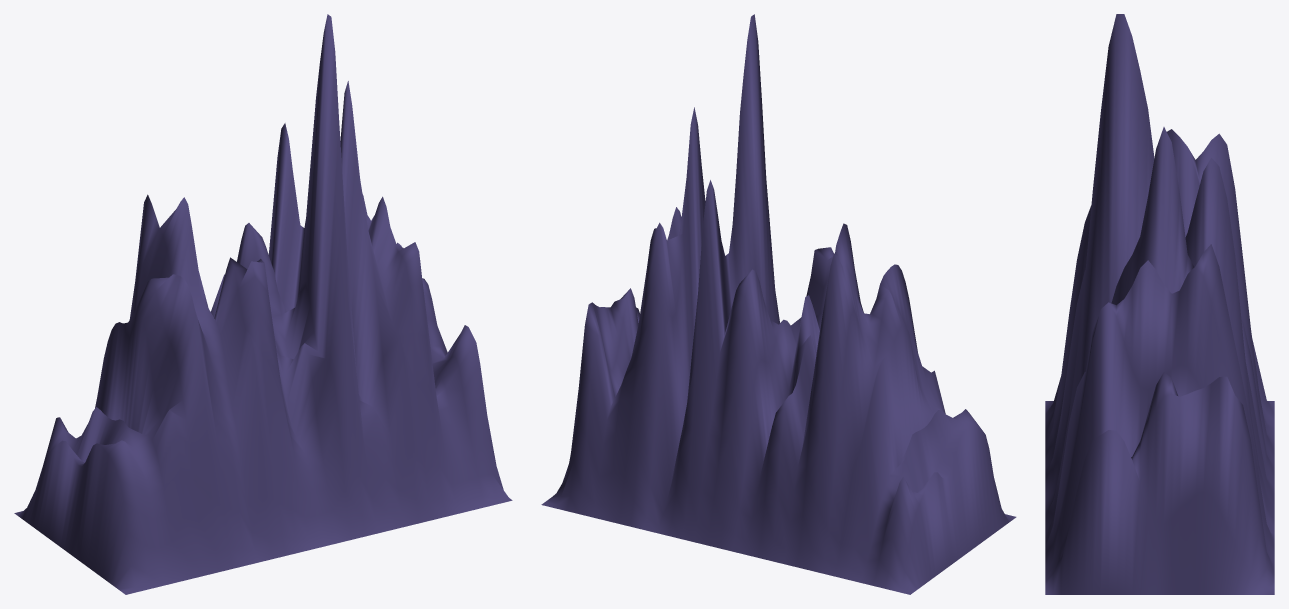
File: Terain Piece 1.fbx
3 views of the same model, side by side, from view 1: azimuth 30°, elevation 25°; view 2: azimuth 150°, elevation 25°; view 3: azimuth 270°, elevation 25° (orthographic). The views are drawn at different scales.
Parts seen in each view (by area): view 1: Terain Pice 1; view 2: Terain Pice 1; view 3: Terain Pice 1.
Part boxes in pixels (x1,y1,x2,y2): Terain Pice 1: [14, 14, 512, 594]; Terain Pice 1: [541, 14, 1016, 594]; Terain Pice 1: [1045, 14, 1274, 594].
Size of the model in its own units: 500 by 610 by 250.
